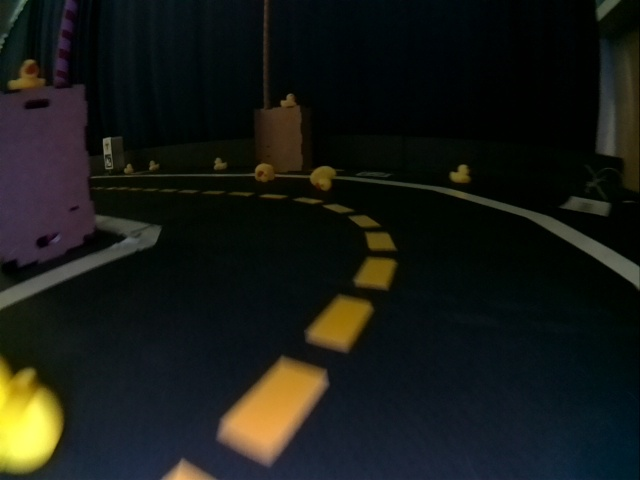Duckie: (1, 357, 63, 470), (9, 61, 44, 89), (311, 167, 334, 191), (450, 165, 470, 182), (255, 164, 275, 181), (281, 95, 296, 106), (214, 158, 227, 170), (149, 161, 159, 170), (124, 164, 132, 174)
QR code: (357, 171, 392, 179), (103, 154, 113, 167)
